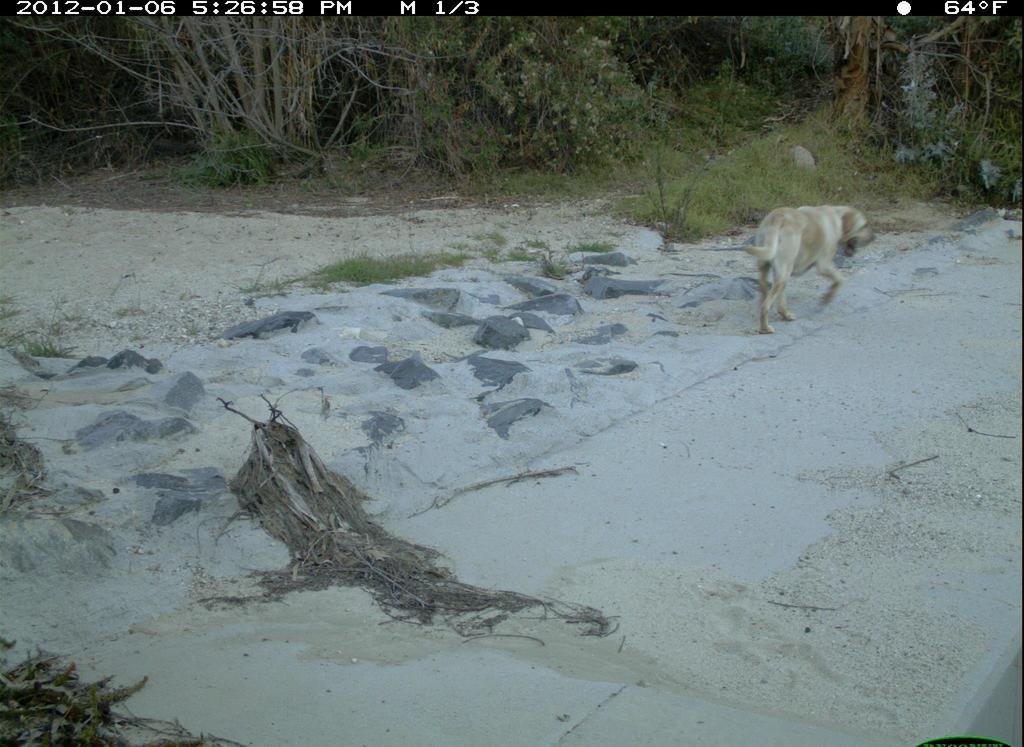dog: (723, 190, 888, 346)
